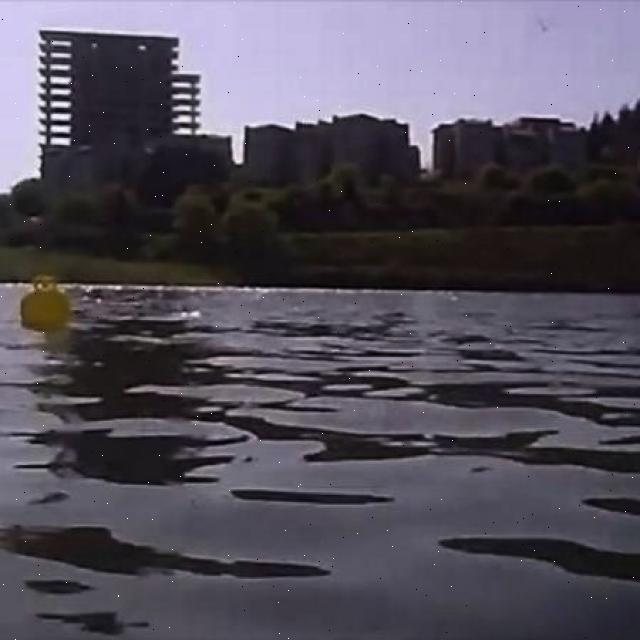buoy: (25, 278, 76, 332)
